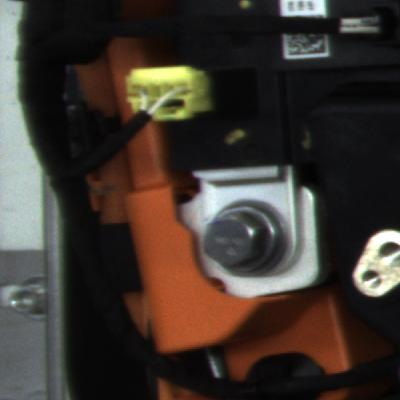nut_b: (194, 181, 300, 293)
